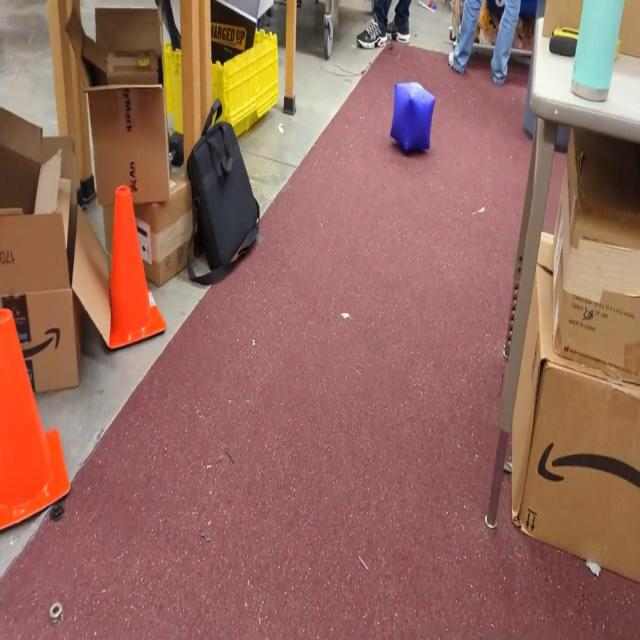frc_cube: (388, 78, 438, 156)
